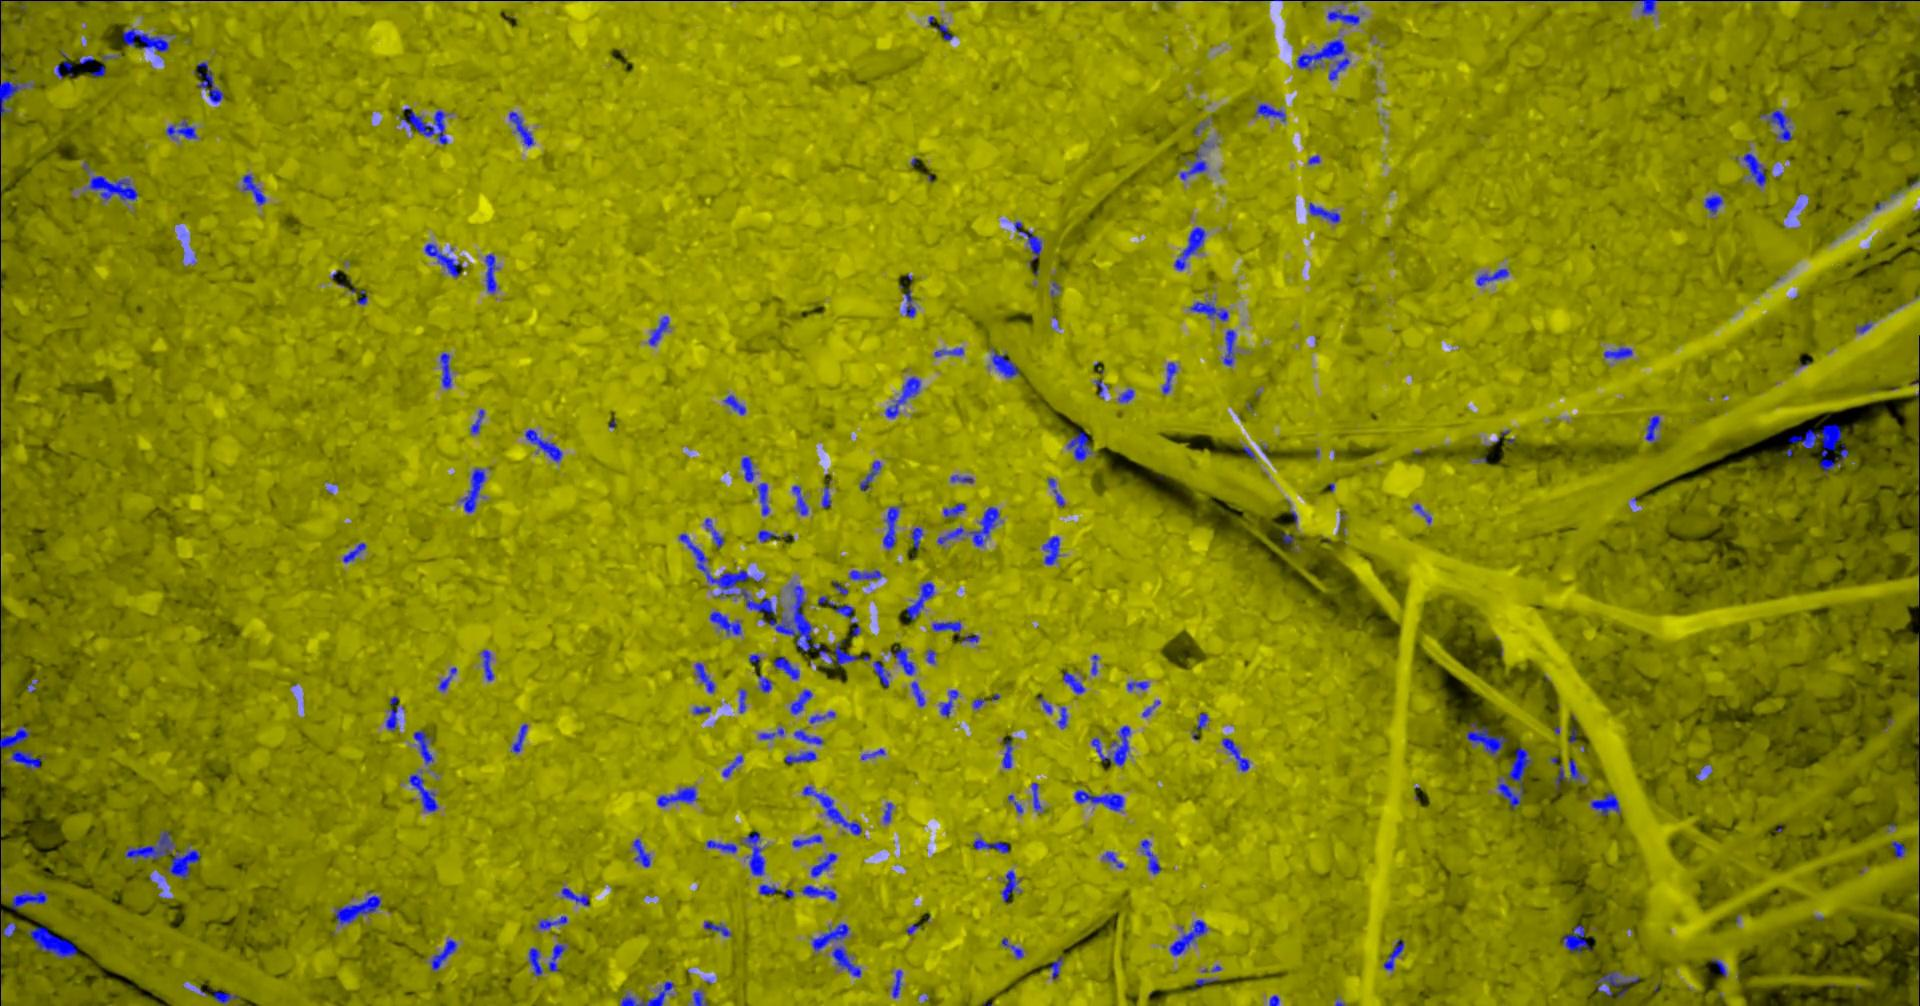ant: (678, 533, 750, 597), (1787, 423, 1848, 473), (803, 785, 861, 835), (1496, 746, 1531, 810), (1297, 38, 1349, 80), (0, 724, 44, 770), (817, 594, 860, 635), (25, 925, 77, 958), (401, 109, 447, 144), (334, 890, 381, 923), (1091, 725, 1130, 765), (884, 376, 919, 418), (1465, 723, 1506, 758), (1173, 226, 1205, 271), (968, 506, 1002, 546), (1170, 920, 1208, 955), (618, 981, 674, 1005), (424, 243, 462, 277), (0, 79, 33, 118), (88, 175, 138, 201), (524, 429, 561, 461), (196, 61, 223, 102), (121, 28, 168, 52), (460, 467, 485, 512), (408, 774, 438, 810), (905, 580, 935, 619), (1595, 970, 1638, 996), (740, 831, 764, 875), (1013, 221, 1041, 259), (811, 923, 850, 951), (1759, 109, 1792, 140), (1074, 790, 1123, 810), (1222, 737, 1250, 771), (740, 587, 776, 614), (830, 945, 861, 976), (508, 111, 533, 146), (1561, 923, 1591, 953), (1178, 149, 1206, 180), (0, 911, 17, 963), (657, 786, 697, 807), (990, 348, 1018, 377), (1553, 760, 1581, 789), (828, 639, 858, 666), (430, 939, 456, 970), (1742, 152, 1766, 185), (241, 173, 265, 205), (1067, 428, 1091, 460), (709, 611, 742, 634), (1189, 301, 1228, 320), (413, 729, 433, 763), (1590, 793, 1620, 815), (1140, 840, 1161, 874), (858, 460, 880, 492), (11, 890, 47, 909), (1383, 937, 1403, 970), (1308, 202, 1338, 224), (883, 506, 898, 549), (999, 870, 1021, 901), (890, 648, 914, 674), (772, 655, 799, 680), (648, 315, 668, 345), (810, 852, 836, 876), (971, 837, 1008, 854), (800, 884, 836, 901), (695, 662, 714, 692), (484, 253, 498, 293), (166, 119, 196, 138), (703, 518, 723, 547), (631, 838, 650, 868), (790, 688, 811, 714), (1326, 9, 1359, 25), (1476, 268, 1509, 285), (1255, 103, 1285, 121), (938, 688, 957, 716), (1062, 671, 1084, 694), (55, 50, 72, 77), (1222, 329, 1236, 365), (561, 887, 589, 904), (547, 942, 565, 970), (91, 55, 113, 77), (791, 485, 808, 514), (1043, 535, 1059, 564), (510, 723, 527, 752), (1161, 362, 1176, 392), (723, 394, 745, 414), (792, 729, 823, 744), (1001, 937, 1023, 958), (1048, 478, 1064, 506), (756, 481, 770, 514), (703, 920, 731, 936), (385, 695, 397, 730), (757, 528, 789, 542), (783, 749, 815, 763), (936, 527, 963, 544), (872, 661, 889, 687), (1191, 713, 1208, 739), (342, 542, 364, 561), (723, 754, 742, 777), (758, 884, 792, 897), (438, 667, 456, 691), (527, 948, 542, 976), (210, 989, 237, 1005), (1603, 345, 1632, 359), (538, 915, 568, 929), (439, 352, 451, 387), (1644, 415, 1660, 442), (705, 840, 737, 852), (848, 569, 883, 580), (931, 620, 961, 633), (791, 835, 822, 847), (942, 502, 965, 518), (1703, 194, 1722, 213), (481, 649, 493, 681), (1413, 503, 1431, 523), (903, 290, 916, 318), (742, 456, 756, 481), (910, 681, 924, 706), (809, 710, 836, 723), (470, 409, 484, 433), (1102, 851, 1123, 868), (758, 727, 783, 739), (1030, 782, 1041, 810), (1191, 978, 1219, 989), (1002, 739, 1012, 768), (1890, 840, 1906, 857), (1007, 794, 1022, 813), (891, 969, 902, 997), (860, 748, 884, 760), (1049, 956, 1062, 978), (1710, 958, 1726, 976), (1639, 0, 1658, 14), (757, 673, 771, 692), (935, 347, 963, 356), (1037, 695, 1051, 713), (910, 527, 922, 549), (692, 989, 707, 1005), (938, 23, 952, 39), (1057, 706, 1067, 728), (1117, 387, 1133, 401), (1279, 531, 1295, 544), (822, 484, 830, 507), (1126, 681, 1148, 690), (883, 801, 891, 823), (1855, 320, 1872, 332), (738, 688, 745, 713), (950, 474, 973, 481), (692, 705, 710, 714), (959, 634, 979, 641), (924, 649, 935, 663)
